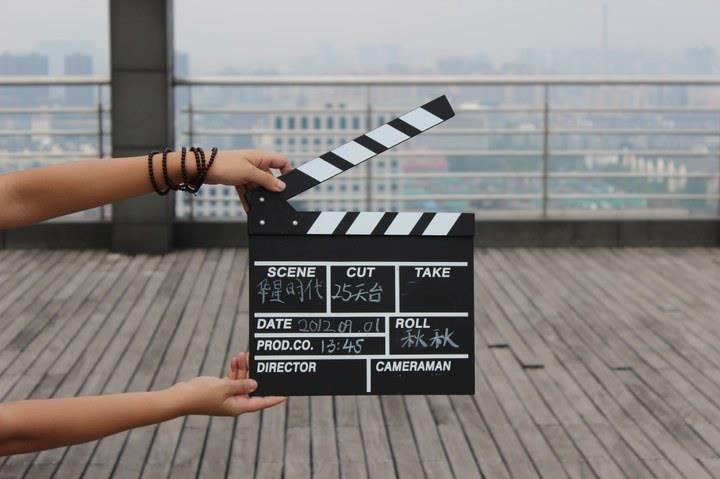clapperboard: (252, 109, 469, 385)
